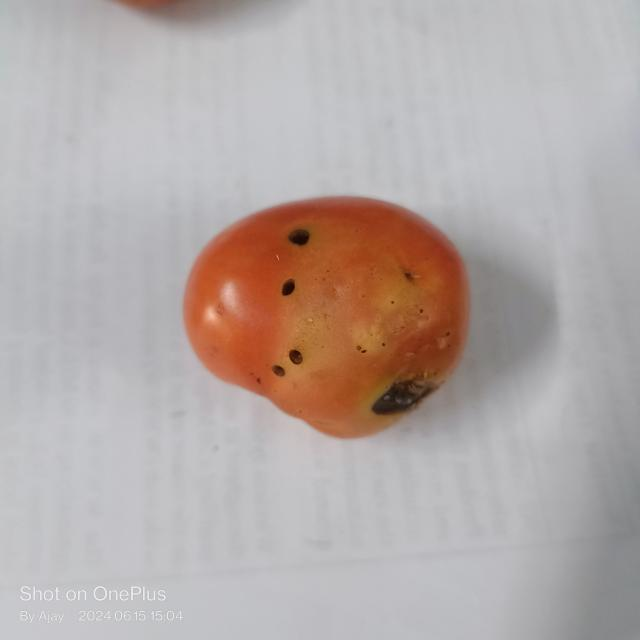fruitworm_bore: (278, 221, 316, 297), (270, 348, 307, 382)
